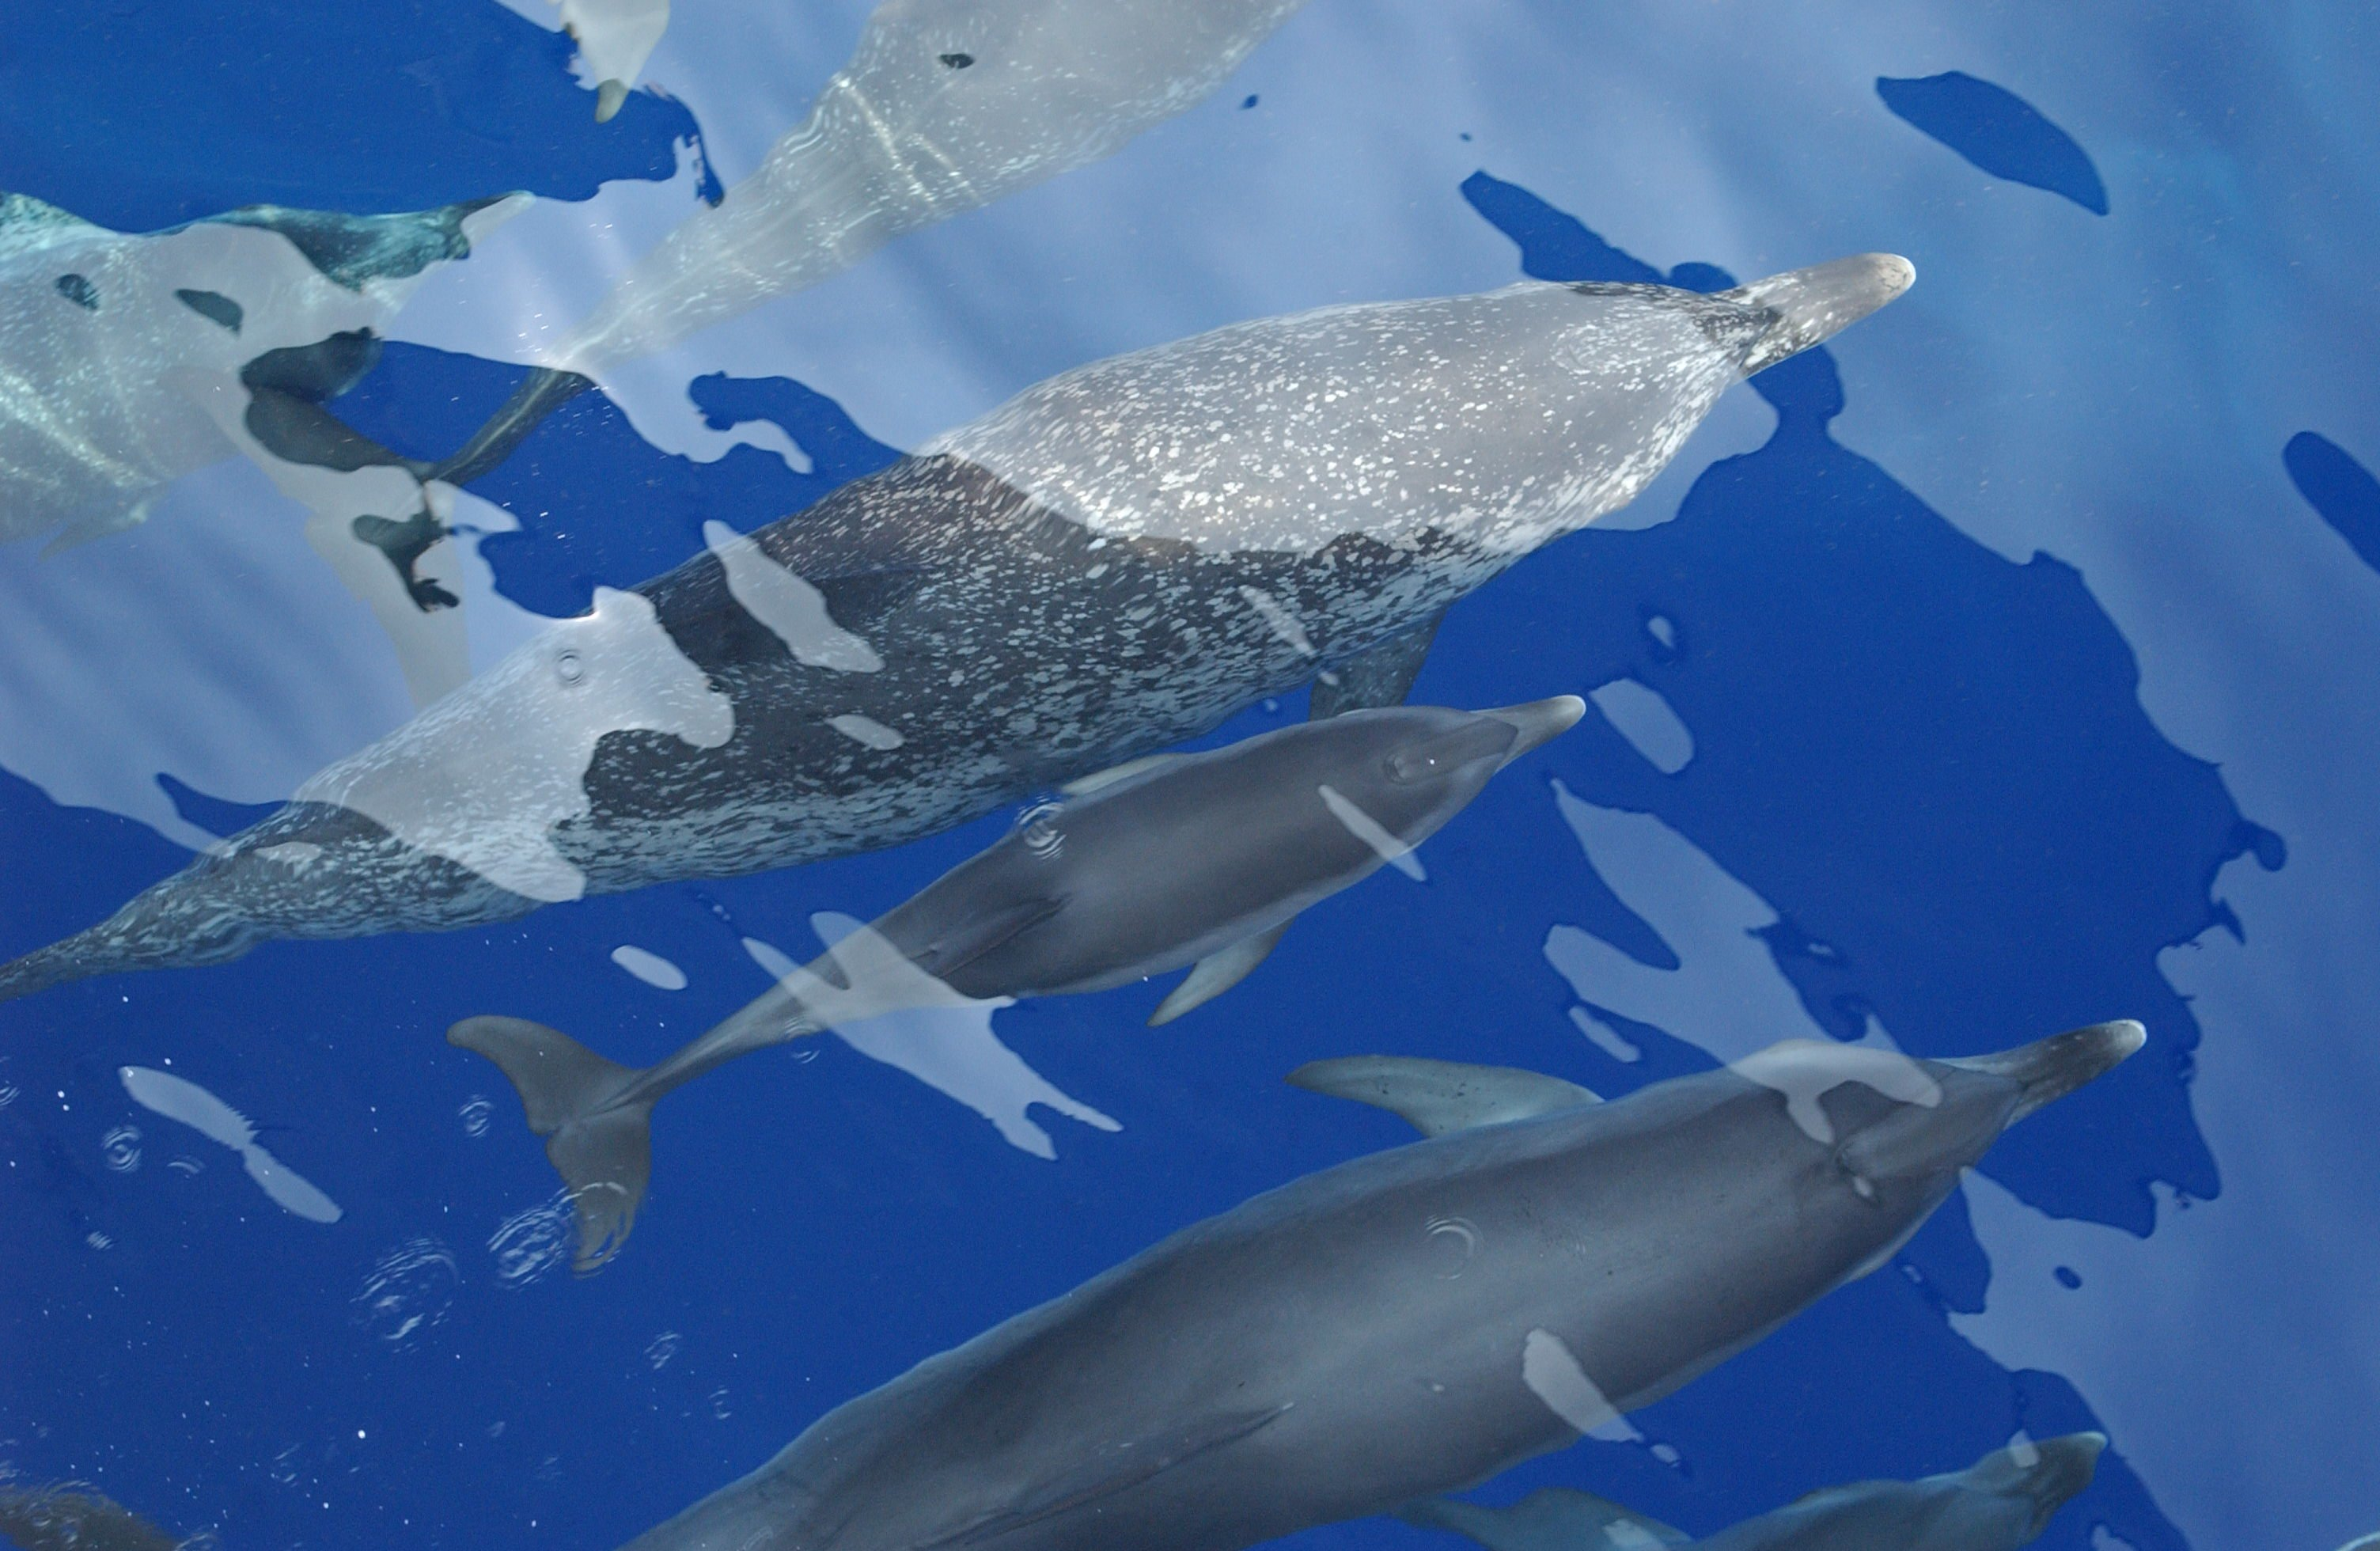dolphin: (0, 236, 1924, 980), (593, 1017, 2151, 1551), (468, 690, 1582, 1280)
